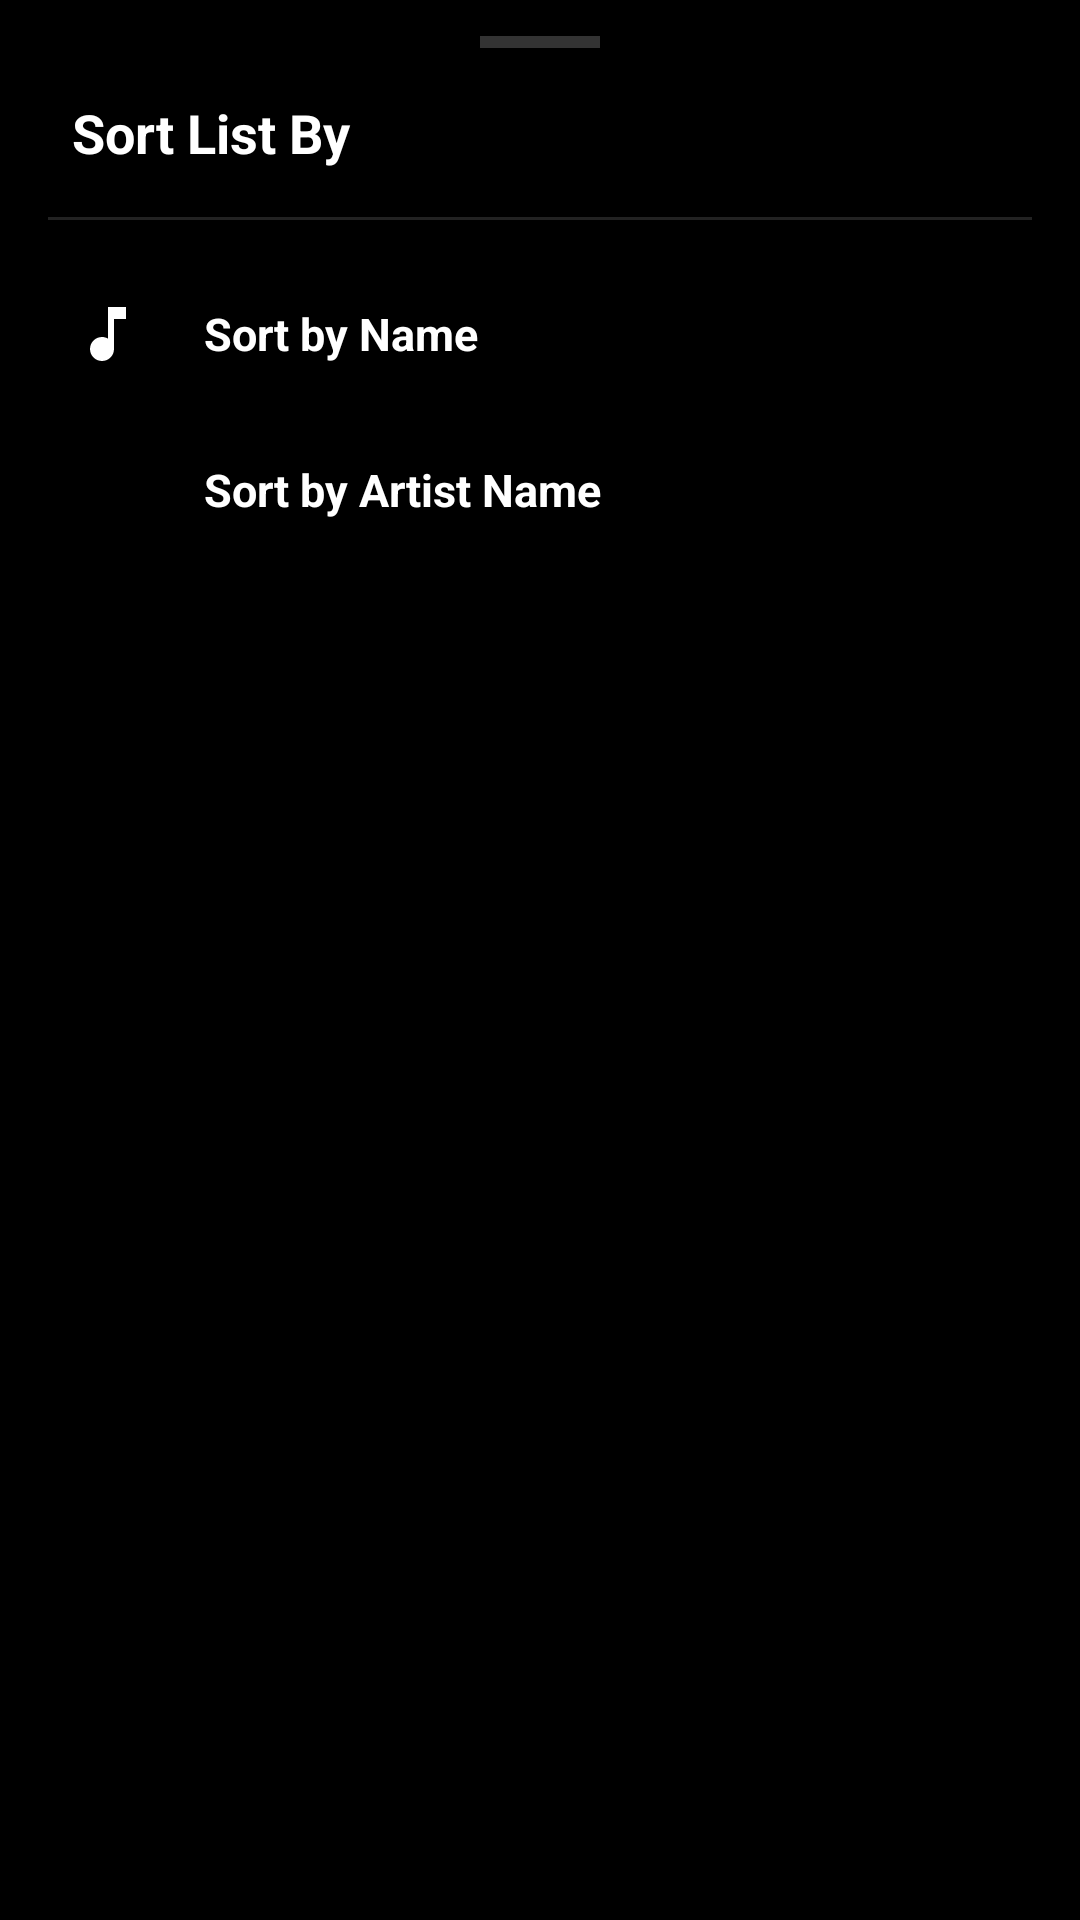

Where to tap for icons on this 1080x1920 app screen, as point (x, y):
music note: point (108, 334)
